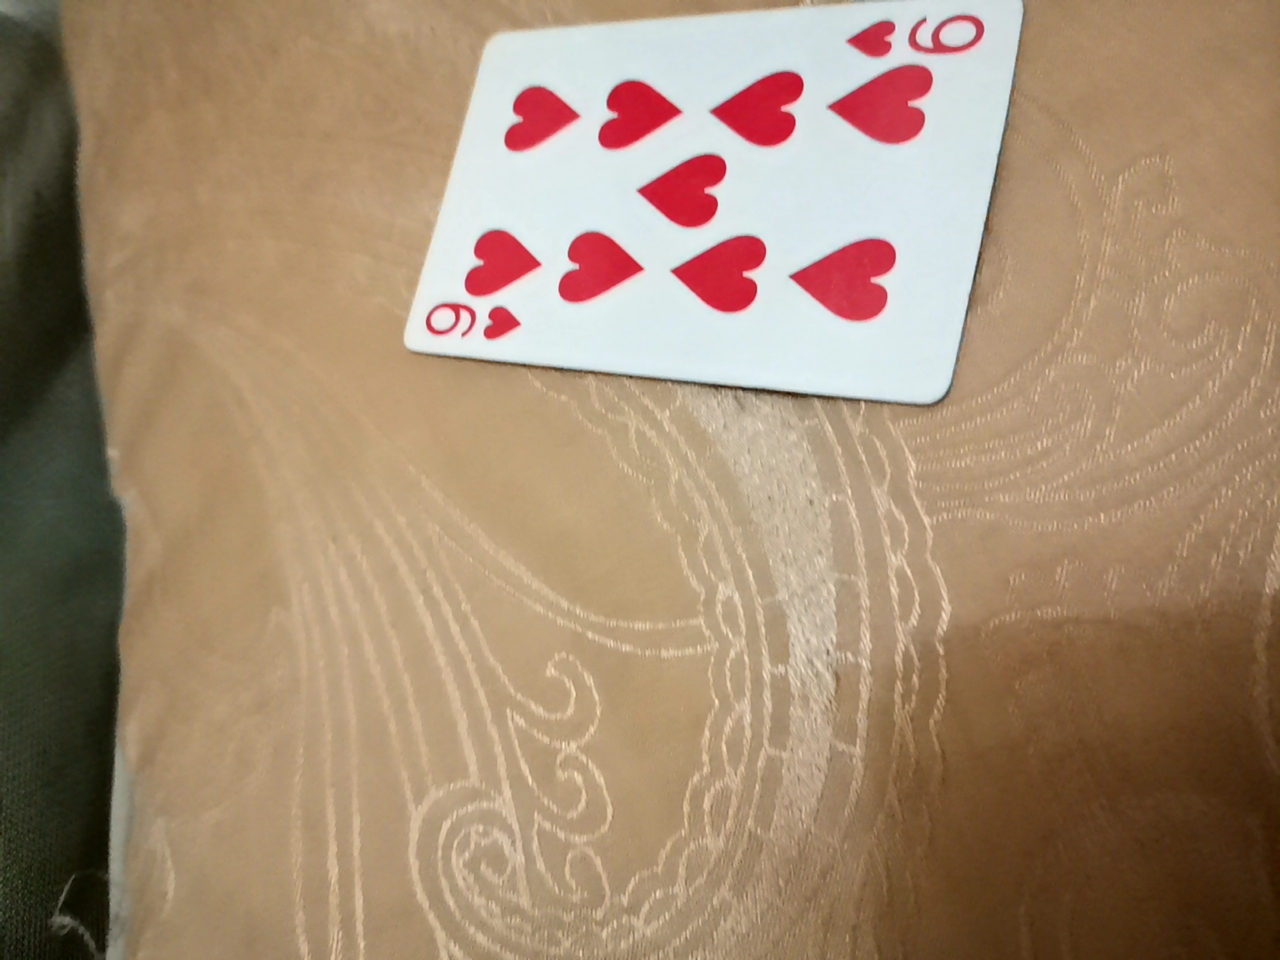hx 9: (399, 44, 961, 441)
